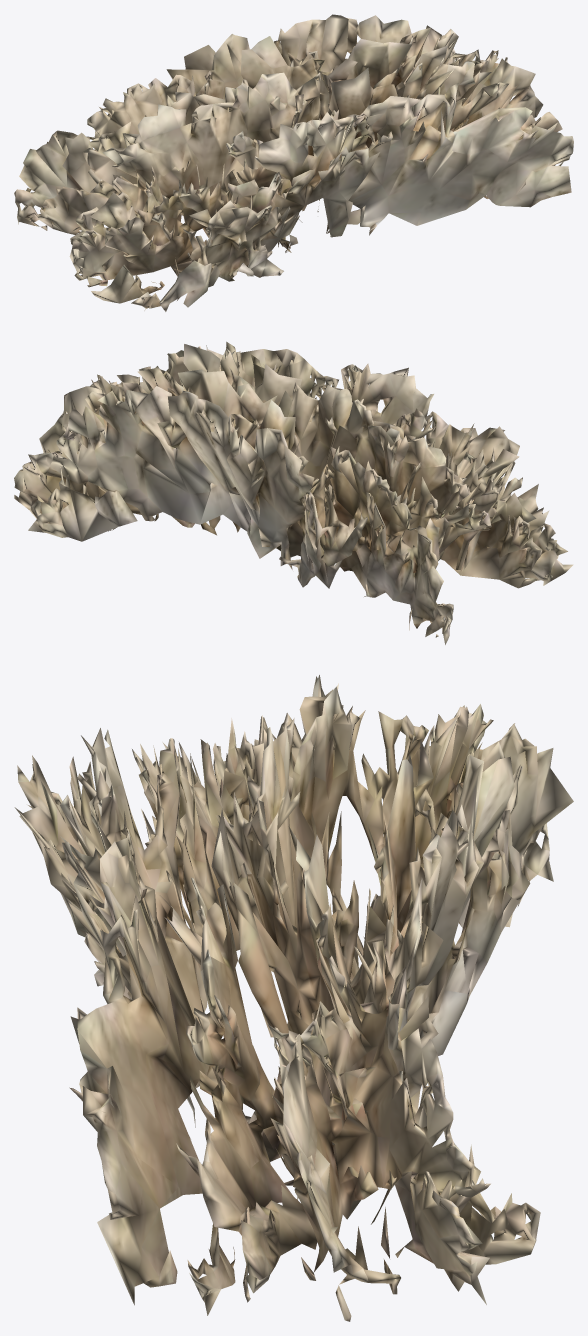
The model's file is millepora.glb.
The picture shows the model from 3 angles, top to bottom: view 1: azimuth 30°, elevation 25°; view 2: azimuth 150°, elevation 25°; view 3: azimuth 270°, elevation 25°; orthographic projection. The views are drawn at different scales.
Visible parts, largest first — view 1: Object_4; view 2: Object_4; view 3: Object_4.
Part boxes in pixels (x1,y1,x2,y2): Object_4: (14,14,573,311); Object_4: (14,341,573,644); Object_4: (14,675,573,1321).
Bounding box in the file's own units: 1 × 0.3361 × 0.4975.
1 material, 1 textured.
